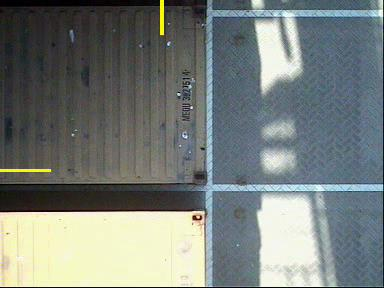groundmarker_2: (64, 1, 242, 122)
